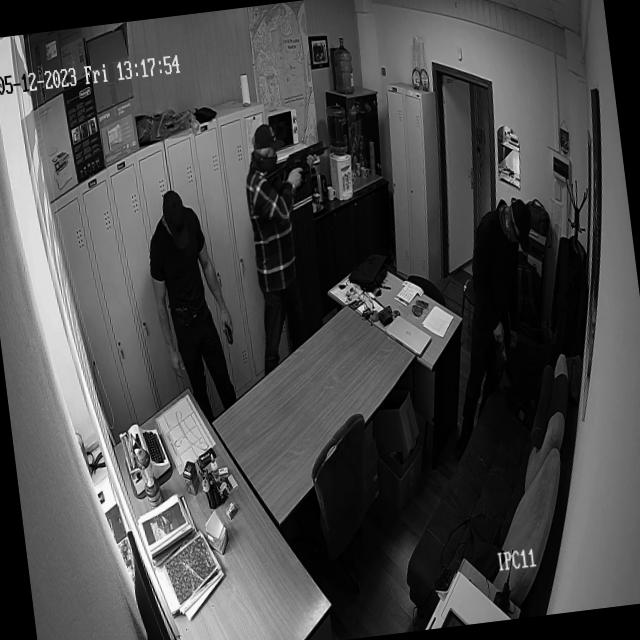gun: (261, 138, 333, 188)
person: (422, 193, 558, 462), (140, 186, 245, 432)
person with a gun: (233, 116, 356, 376)
